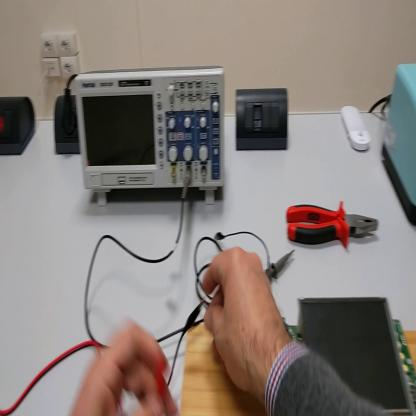hand: (204, 243, 290, 401), (70, 318, 182, 416)
low voltage board: (282, 297, 416, 416)
oscilloscope: (74, 68, 226, 206)
oscilloscope probe tip: (264, 247, 299, 285)
pliers: (285, 199, 381, 253)
socket: (1, 93, 39, 157), (55, 95, 84, 156)
welder station: (384, 60, 416, 226)
working area: (183, 282, 416, 415)
